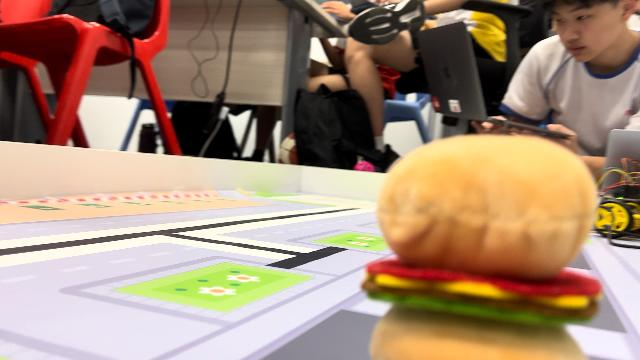burger: (362, 135, 602, 360)
